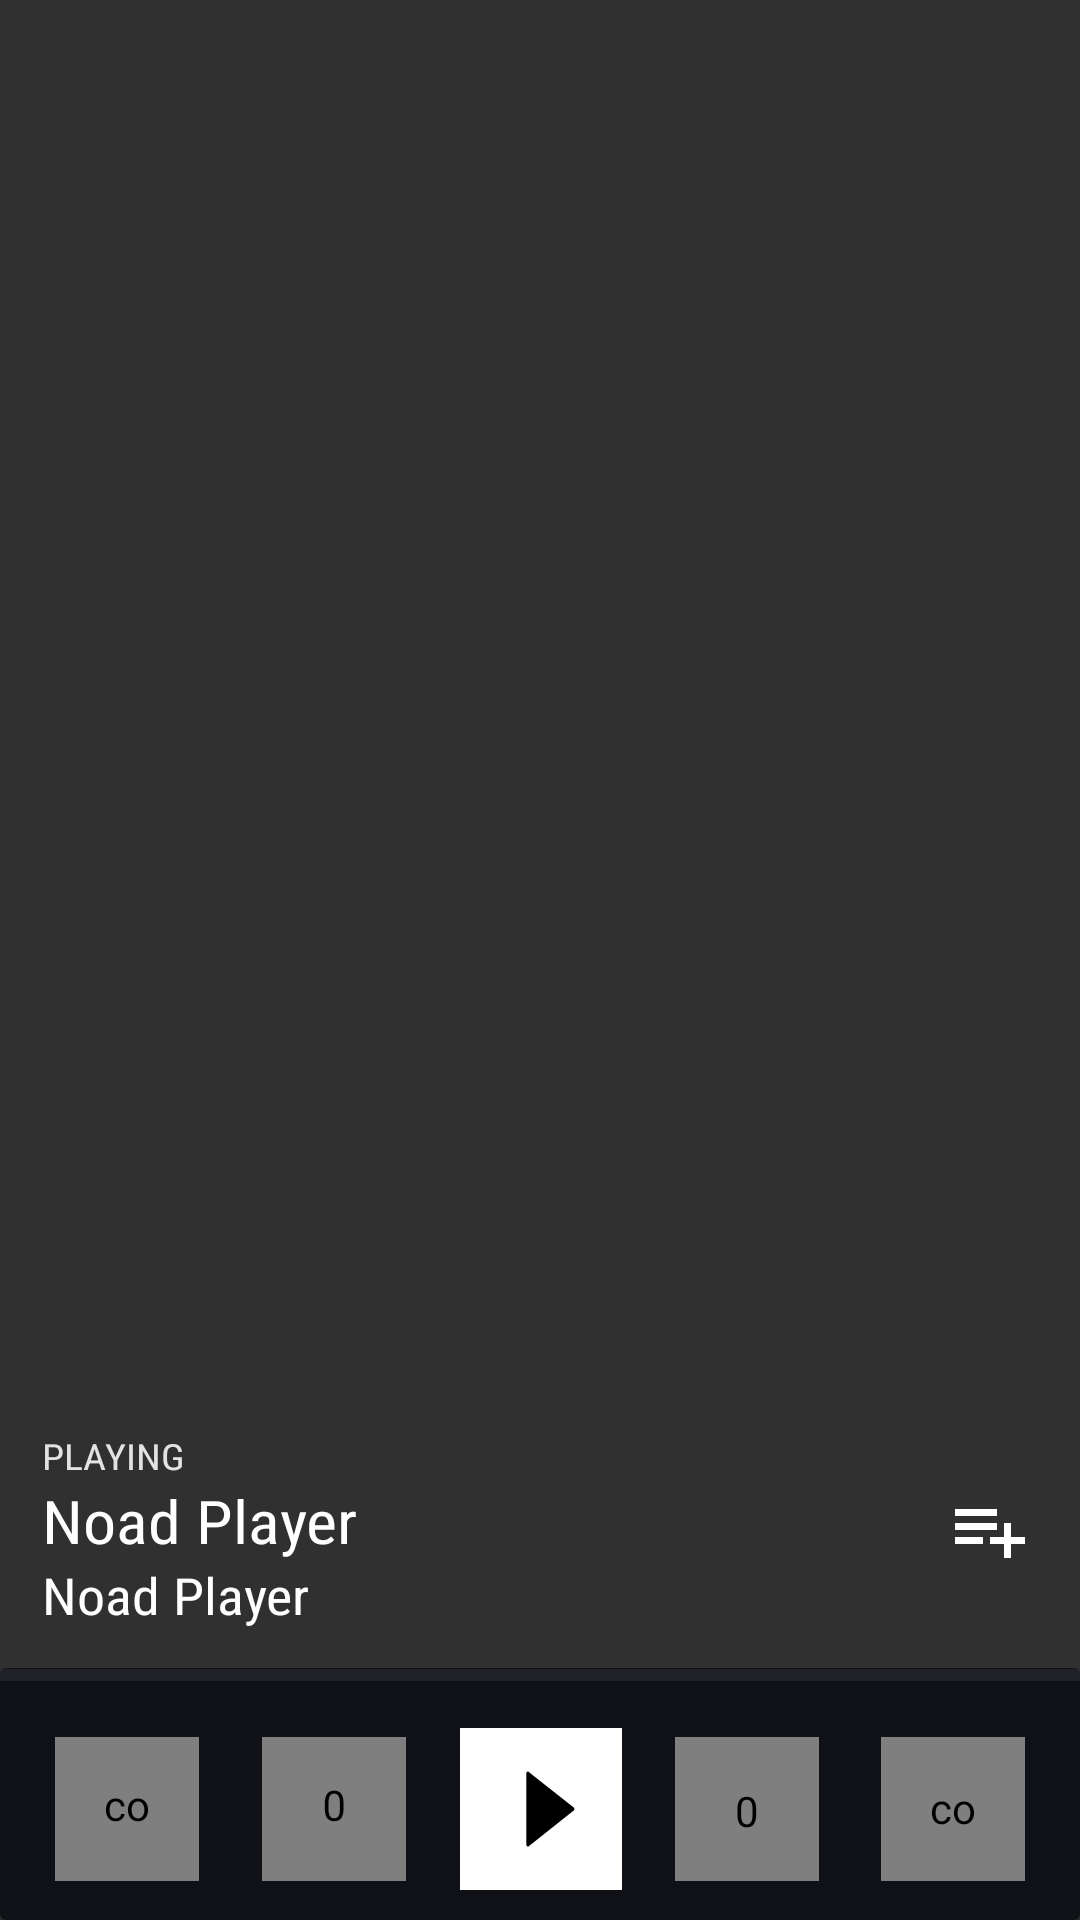

Where to tap for icons on this 1080×1920 app screen, as [x,y]:
add playlist: [990,1533]
